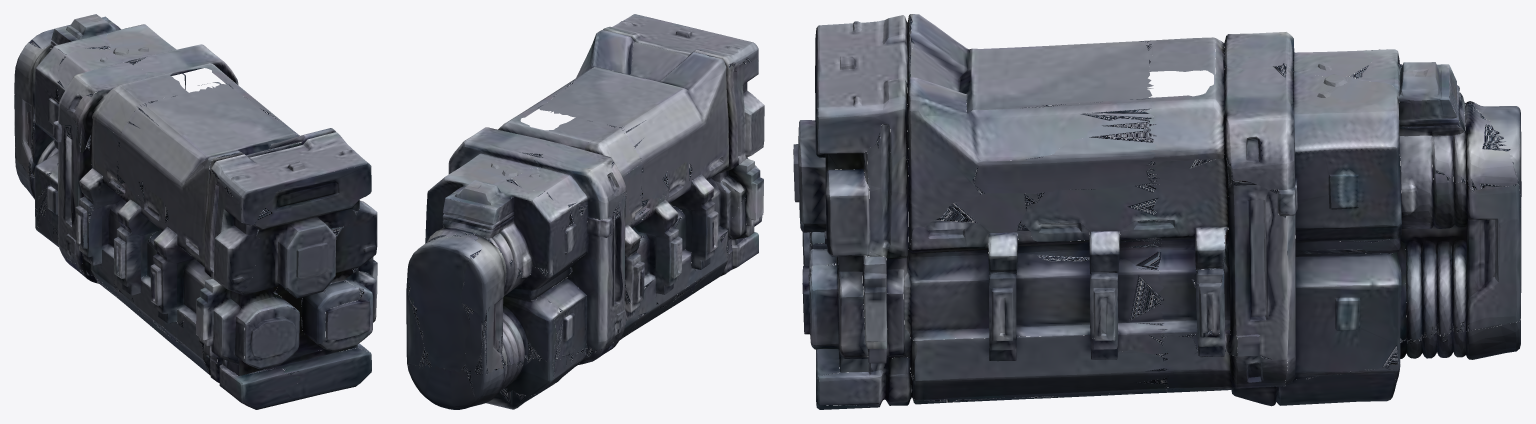
Rendered from HL_WPN_DarkGunSet_06.glb.
3 renders of one model, left to right at view 1: azimuth 30°, elevation 25°; view 2: azimuth 150°, elevation 25°; view 3: azimuth 270°, elevation 25°, orthographic. The views are drawn at different scales.
Parts seen in each view (by area): view 1: meshes[0]; view 2: meshes[0]; view 3: meshes[0].
Boxes of the visible parts, x1,y1,x2,y2 form: meshes[0]: (14,14,377,409); meshes[0]: (406,14,764,409); meshes[0]: (793,14,1521,409).
Size of the model in its own units: 0.104 by 0.1377 by 0.2689.
Materials: 1 (1 with a texture image).
